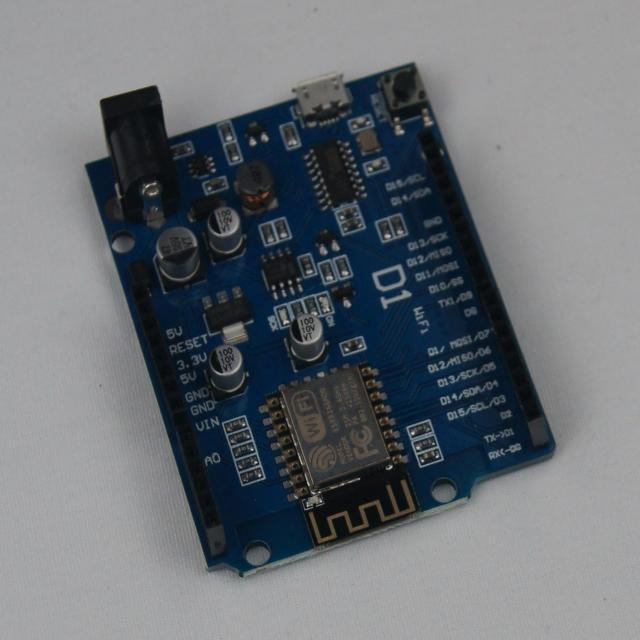Arduino Uno WiFi Shield: (87, 65, 555, 576)
